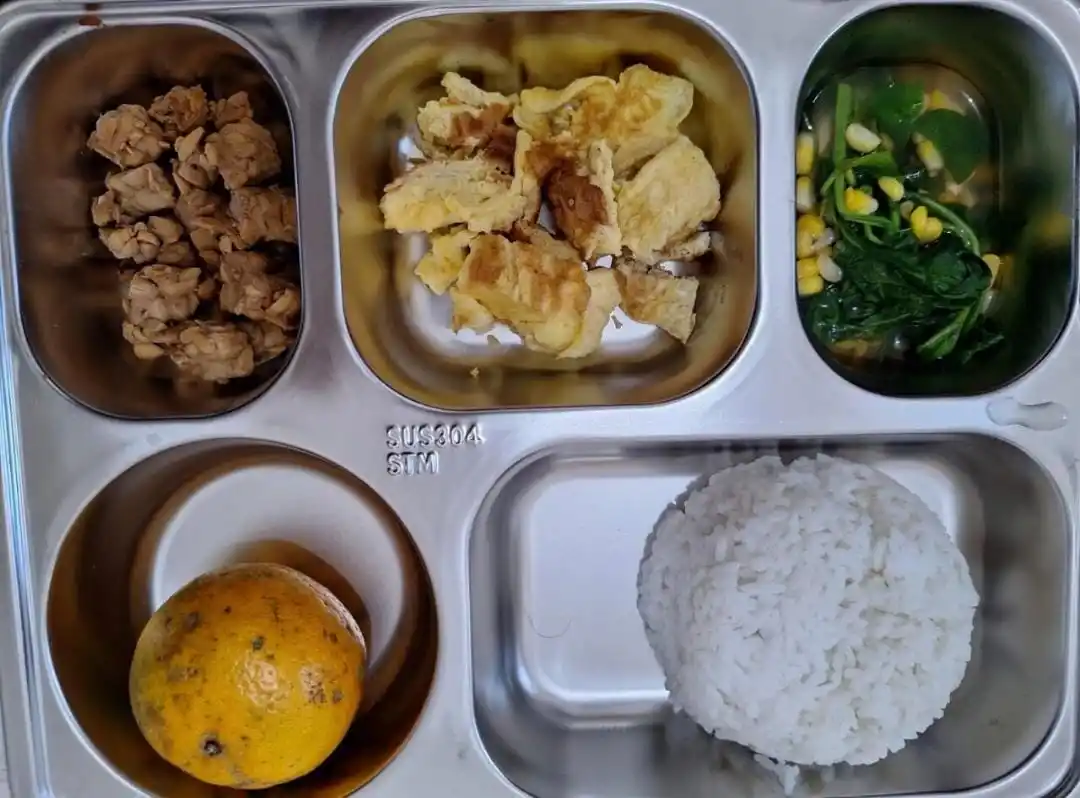buah_sayur_lainnya: (816, 117, 949, 314)
buah_sayur_vitA: (182, 619, 314, 747)
kacang_legume: (104, 123, 250, 357)
makanan_berpati: (736, 503, 893, 710)
telur: (454, 111, 660, 305)
